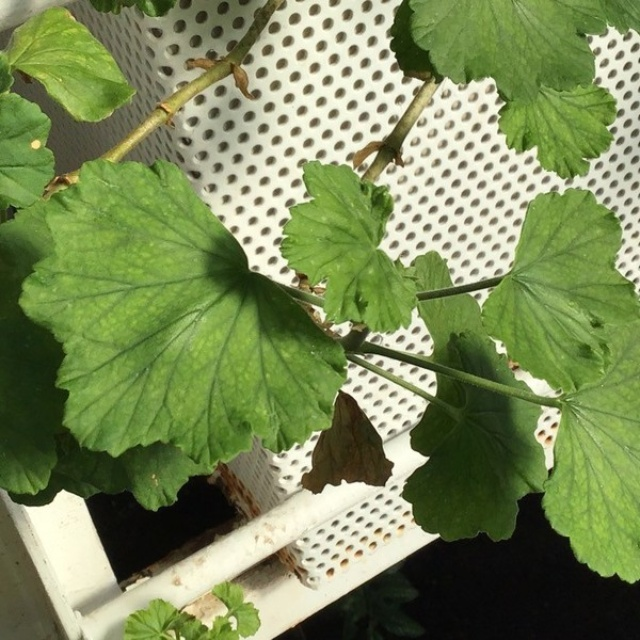obstacle: (55, 23, 630, 591)
